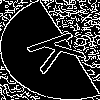K: (25, 25, 99, 75)
